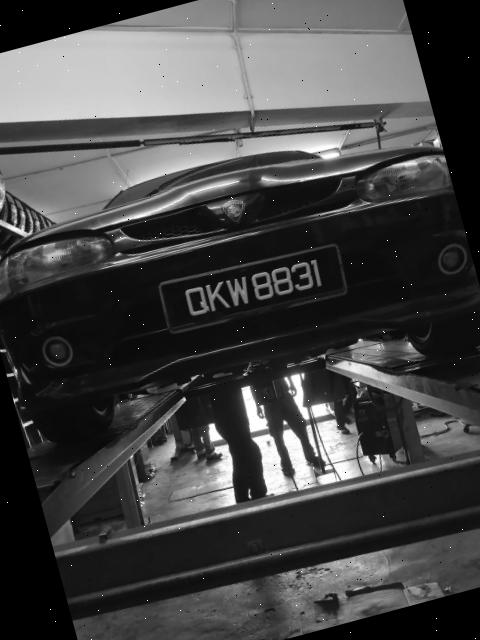License_Plate: (159, 238, 353, 343)
